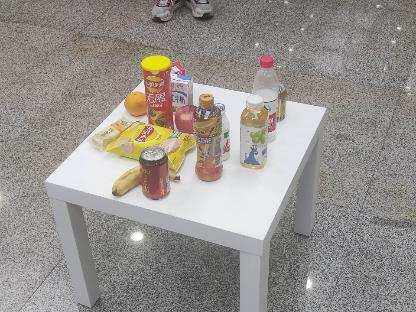Can: (138, 148, 172, 201)
Others: (136, 55, 176, 132), (170, 73, 194, 113)
Plastic Bottle: (251, 50, 280, 146)
